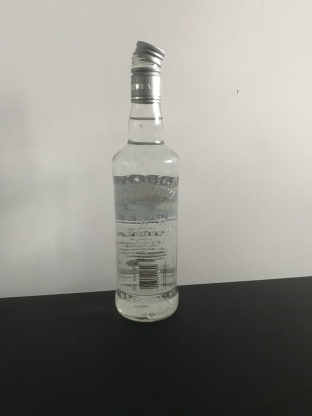nakretka: (129, 38, 166, 104)
